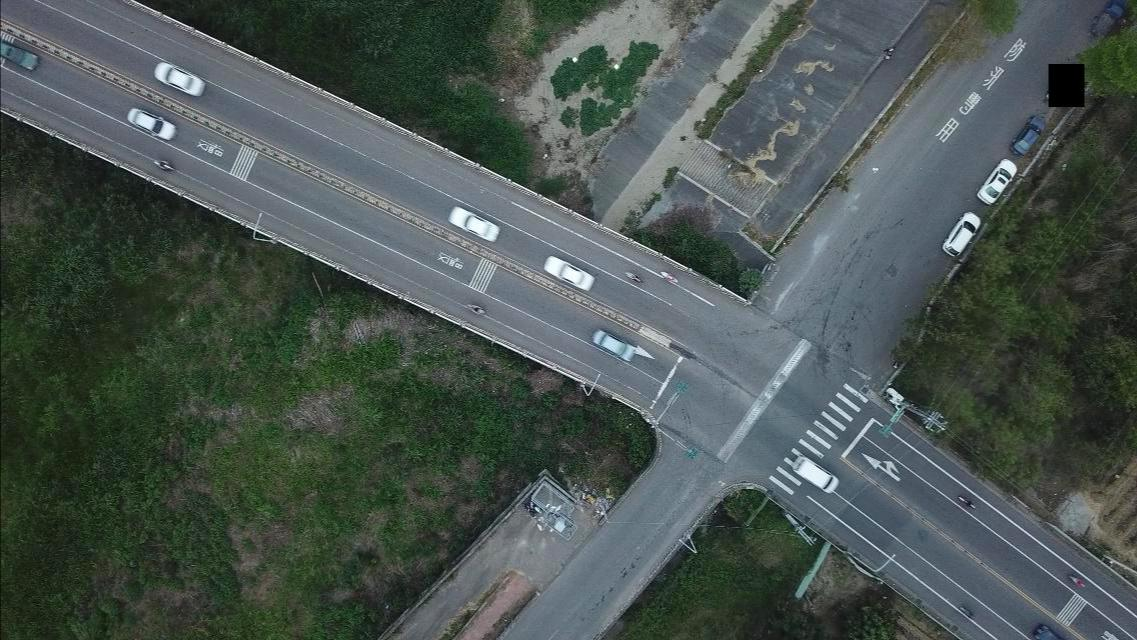vehicle: (543, 255, 598, 294), (448, 206, 504, 242), (942, 211, 983, 258), (155, 62, 208, 97), (976, 159, 1016, 204), (589, 327, 638, 362), (128, 106, 177, 141), (792, 456, 839, 492), (1010, 116, 1047, 158), (0, 41, 41, 72)
